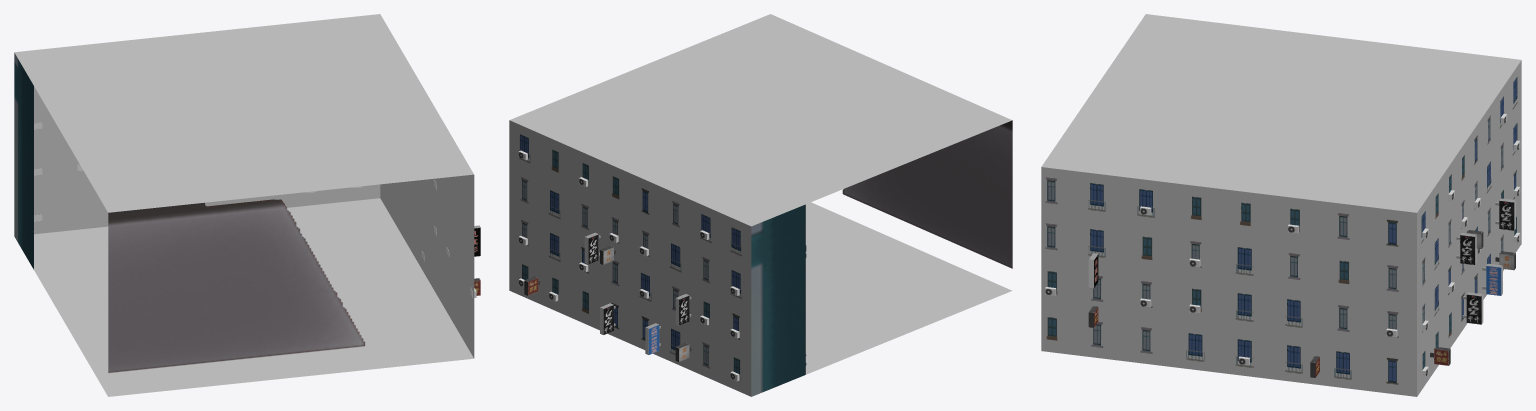
File: 111StationFix08.fbx
3 views of the same model, side by side, from view 1: azimuth 30°, elevation 25°; view 2: azimuth 150°, elevation 25°; view 3: azimuth 270°, elevation 25° (orthographic). The views are drawn at different scales.
Parts seen in each view (by area): view 1: Areas:building.009; view 2: Areas:building.009; view 3: Areas:building.009.
Boxes of the visible parts, x1,y1,x2,y2 form: Areas:building.009: (14, 14, 480, 396); Areas:building.009: (509, 14, 1012, 396); Areas:building.009: (1041, 14, 1521, 396).
Size of the model in its own units: 39.31 by 16.96 by 40.13.
